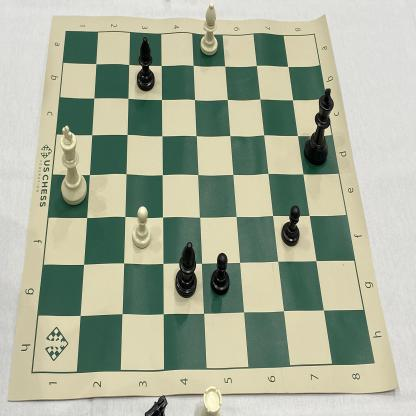black-bishop: (173, 236, 200, 305), (134, 33, 158, 95)
black-king: (301, 81, 339, 172)
black-pawn: (207, 248, 233, 298), (279, 201, 303, 253)
white-bishop: (196, 0, 224, 60)
white-king: (54, 122, 92, 209)
white-pawn: (129, 201, 154, 253)
